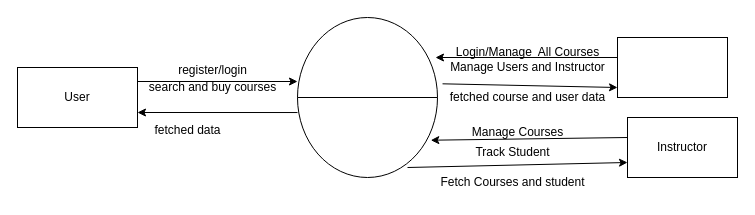
Some shapes in this 755 by 215 pixel diagram are drawn without their labels. The box of each missing label's shape, as (x1, y1, x2, y2) in pixels:
Admin: (616, 36, 728, 98)
Learning Mangement System: (296, 16, 438, 178)
